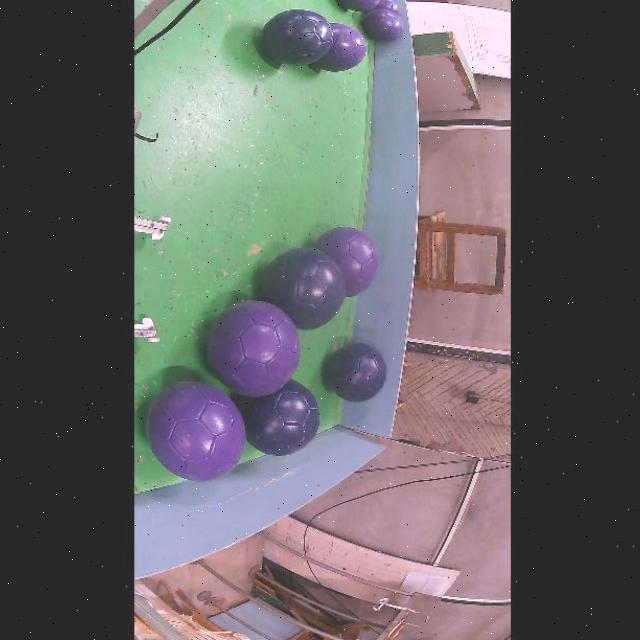B: (261, 247, 346, 330), (239, 380, 320, 456), (261, 9, 333, 65), (325, 344, 387, 402)
P: (146, 381, 245, 481), (206, 300, 300, 397), (313, 226, 379, 296), (314, 23, 367, 72), (362, 9, 404, 40), (336, 0, 380, 12), (376, 0, 401, 15)
